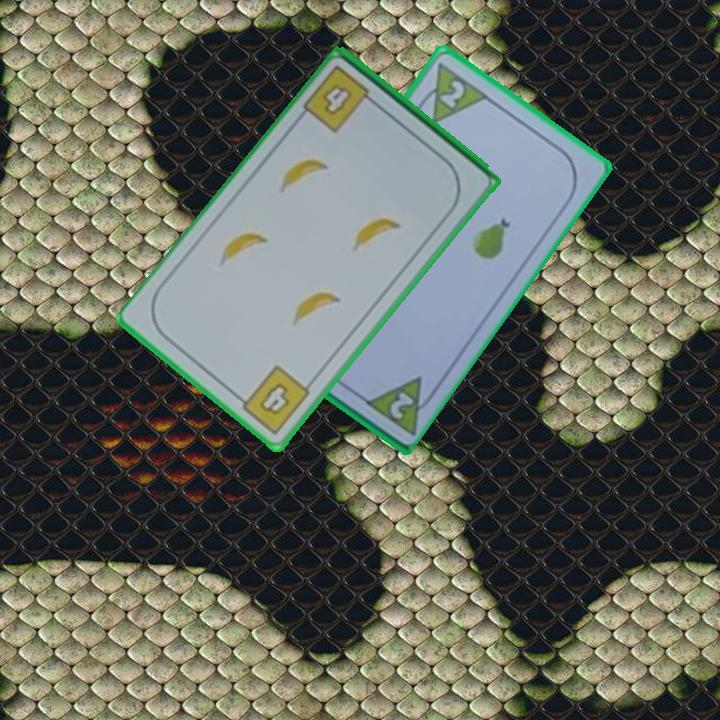2p: (435, 75, 468, 111), (386, 387, 417, 422)
4b: (232, 361, 314, 438), (299, 61, 382, 136)
